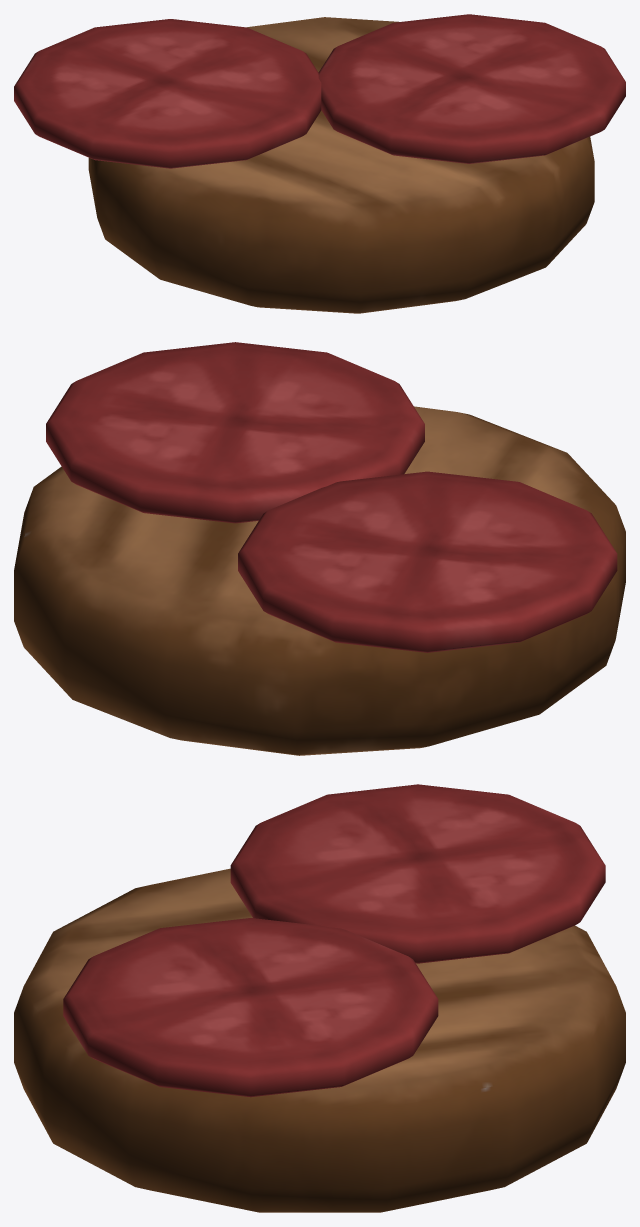
The model's file is MSH_C_J.fbx.
3 renders of one model, top to bottom at view 1: azimuth 30°, elevation 25°; view 2: azimuth 150°, elevation 25°; view 3: azimuth 270°, elevation 25°, orthographic. The views are drawn at different scales.
Parts seen in each view (by area): view 1: MSH_C_J; view 2: MSH_C_J; view 3: MSH_C_J.
Part boxes in pixels (x1,y1,x2,y2): MSH_C_J: (14, 14, 625, 313); MSH_C_J: (14, 342, 625, 755); MSH_C_J: (14, 784, 625, 1212).
Bounding box in the file's own units: 14.51 × 12.85 × 3.82.
1 material, 1 textured.
